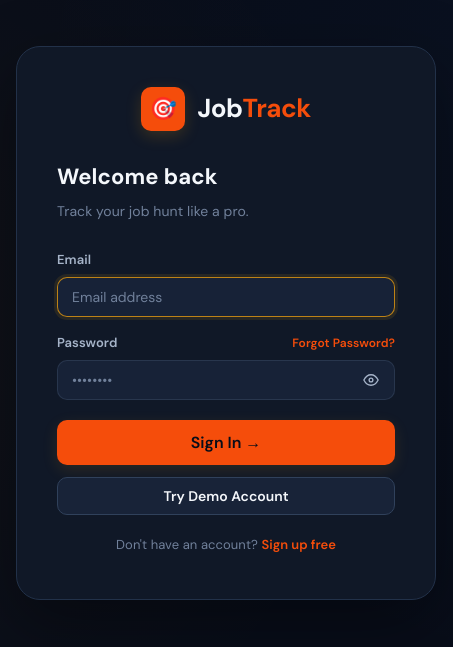
Test case: demo login errors are displayed without navigating
The width and height of the screenshot is (453, 647).
Click the button "Try Demo Account" at (226, 496), box [57,477,395,515]
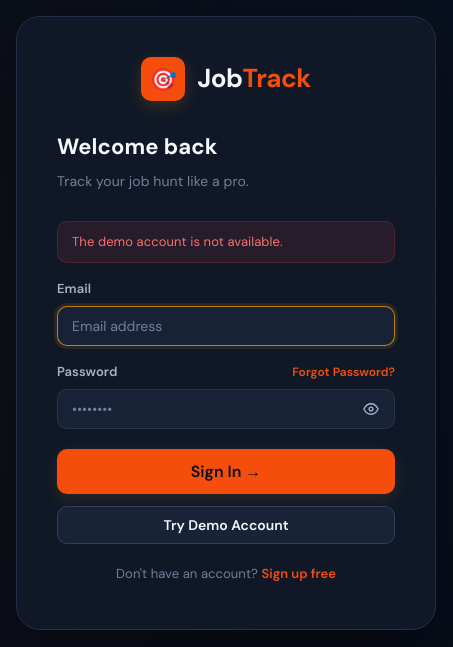
Result: the text "The demo account is not available." is shown at [57,221,395,264]
